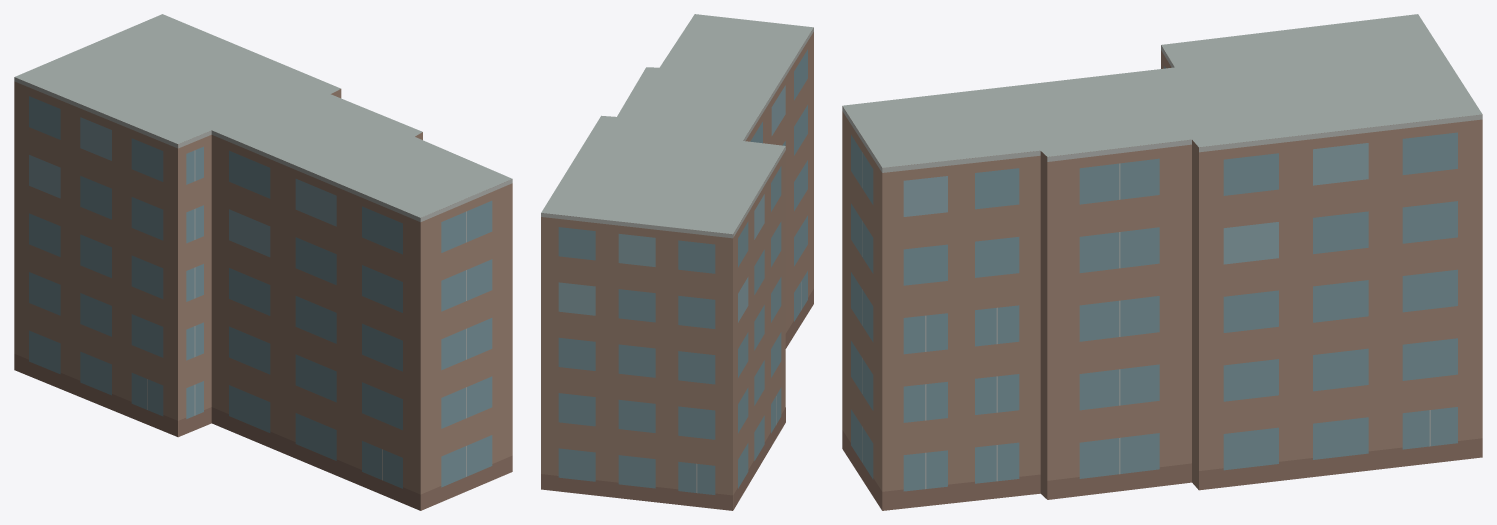
File: survey-upis-32662054.glb
The picture shows the model from 3 angles, left to right: view 1: azimuth 30°, elevation 25°; view 2: azimuth 150°, elevation 25°; view 3: azimuth 270°, elevation 25°; orthographic projection. The views are drawn at different scales.
Visible parts, largest first — view 1: survey-upis-32662054.tmp; view 2: survey-upis-32662054.tmp; view 3: survey-upis-32662054.tmp.
Part boxes in pixels (bbox=[...]): survey-upis-32662054.tmp: bbox=[14, 14, 512, 510]; survey-upis-32662054.tmp: bbox=[541, 14, 813, 510]; survey-upis-32662054.tmp: bbox=[842, 14, 1482, 510].
Size of the model in its own units: 15.89 by 16.5 by 27.93.
